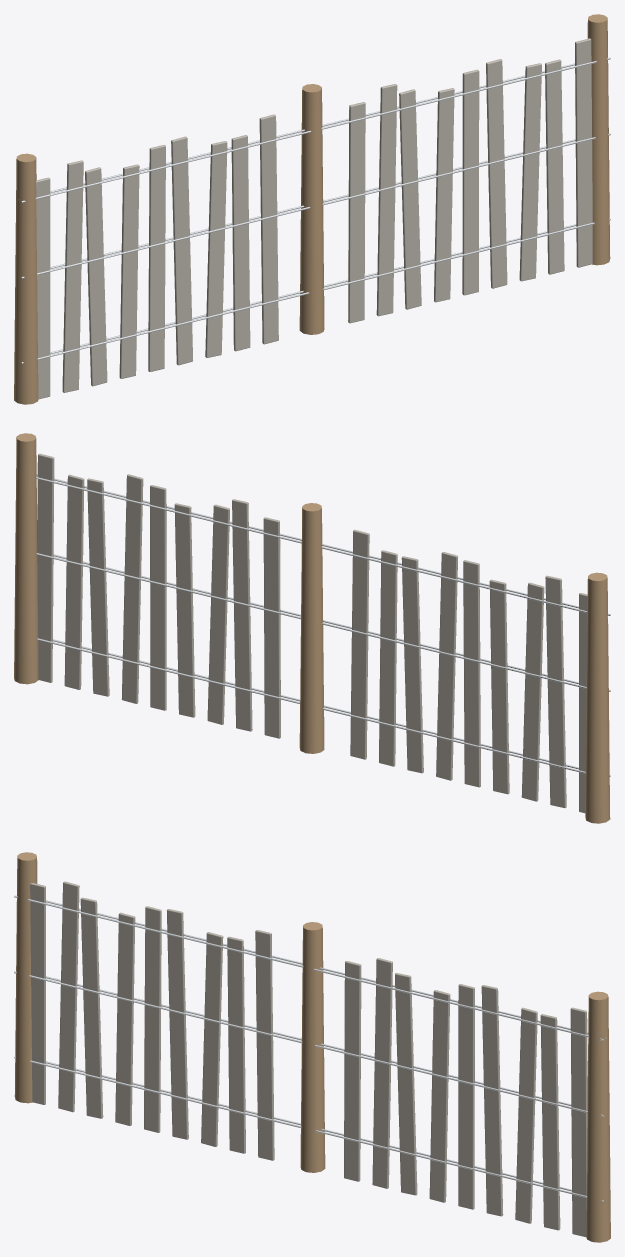
The model's file is beach-surf-and-paddle-kit-dune-fence-run-cf3f7f77.glb.
The picture shows the model from 3 angles, top to bottom: view 1: azimuth 30°, elevation 25°; view 2: azimuth 150°, elevation 25°; view 3: azimuth 330°, elevation 25°; orthographic projection.
Parts seen in each view (by area): view 1: dune-fence-run-drift, dune-fence-run-timber, dune-fence-run-steel; view 2: dune-fence-run-drift, dune-fence-run-timber, dune-fence-run-steel; view 3: dune-fence-run-drift, dune-fence-run-timber, dune-fence-run-steel.
Part boxes in pixels (x1=…): dune-fence-run-drift: x1=36, y1=38, x2=592, y2=399; dune-fence-run-timber: x1=14, y1=14, x2=610, y2=404; dune-fence-run-steel: x1=18, y1=57, x2=610, y2=363; dune-fence-run-drift: x1=37, y1=453, x2=587, y2=813; dune-fence-run-timber: x1=14, y1=433, x2=610, y2=823; dune-fence-run-steel: x1=36, y1=474, x2=610, y2=776; dune-fence-run-drift: x1=30, y1=881, x2=587, y2=1237; dune-fence-run-timber: x1=14, y1=852, x2=610, y2=1242; dune-fence-run-steel: x1=14, y1=895, x2=606, y2=1201.
Bounding box in the file's own units: 2.7 × 1.05 × 0.1.
